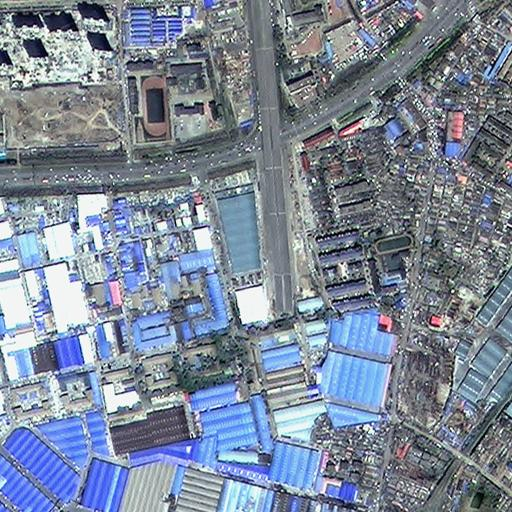school: (126, 58, 171, 148), (371, 230, 418, 282)
